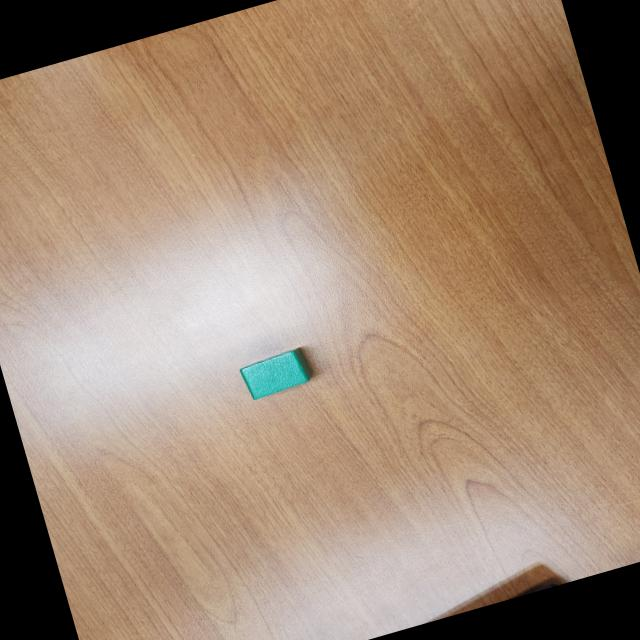green: (237, 344, 315, 400)
